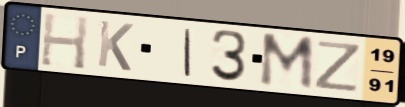3: (208, 29, 250, 84)
H: (37, 10, 91, 72)
I: (181, 26, 194, 79)
K: (95, 18, 136, 74)
M: (257, 32, 317, 94)
Z: (312, 38, 364, 95)
